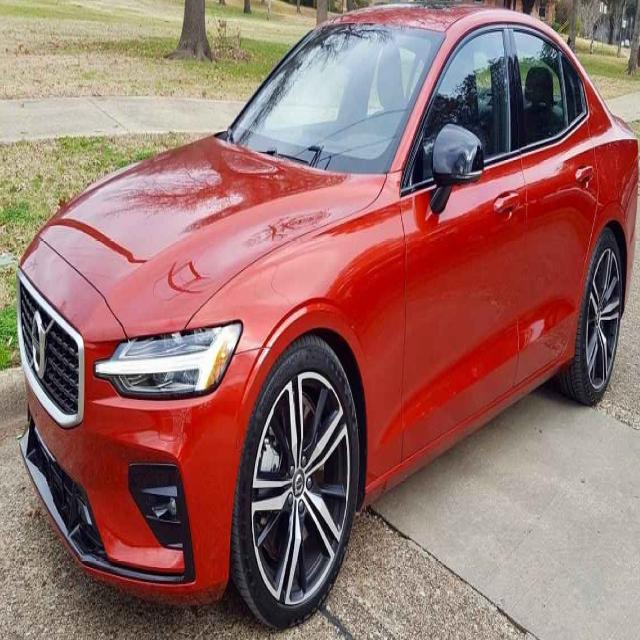red: (19, 0, 637, 599)
